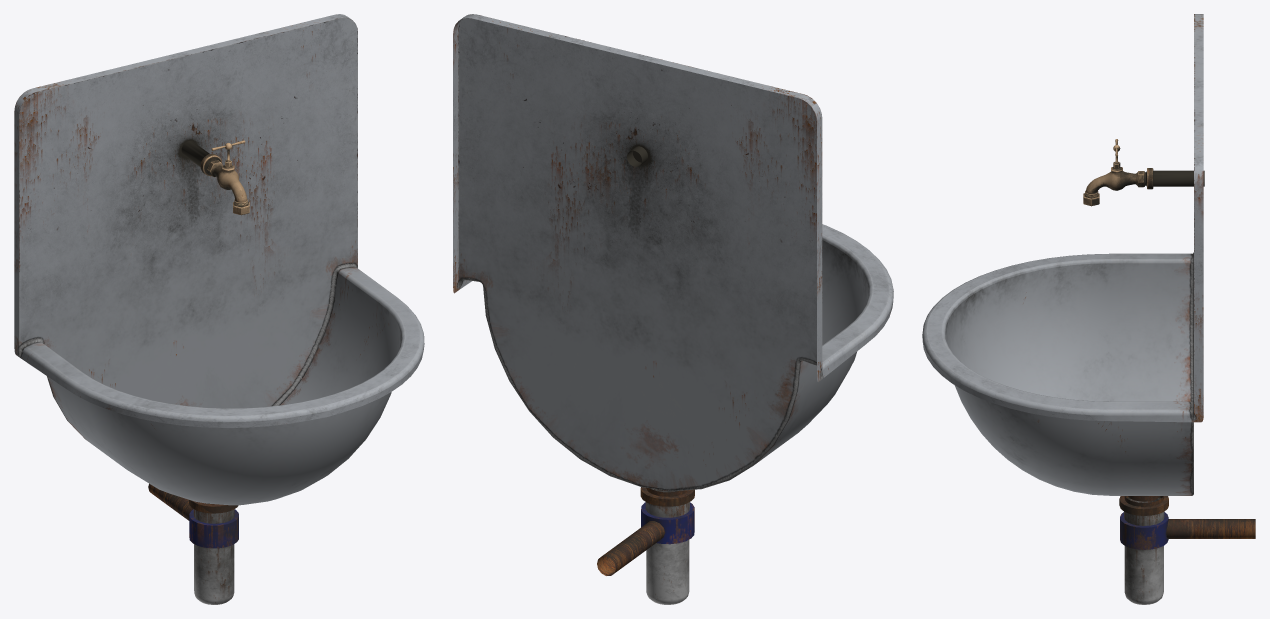
3 views of the same model, side by side, from view 1: azimuth 30°, elevation 25°; view 2: azimuth 150°, elevation 25°; view 3: azimuth 270°, elevation 25° (orthographic). The views are drawn at different scales.
Parts seen in each view (by area): view 1: Cylinder, WaterPipe; view 2: Cylinder; view 3: Cylinder, WaterPipe.
Boxes of the visible parts, x1,y1,x2,y2 form: Cylinder: (14, 14, 424, 604); WaterPipe: (181, 140, 249, 215); Cylinder: (453, 14, 893, 604); Cylinder: (922, 14, 1255, 604); WaterPipe: (1083, 139, 1204, 206).
Size of the model in its own units: 1.15 by 1.7 by 1.
1 material, 1 textured.
